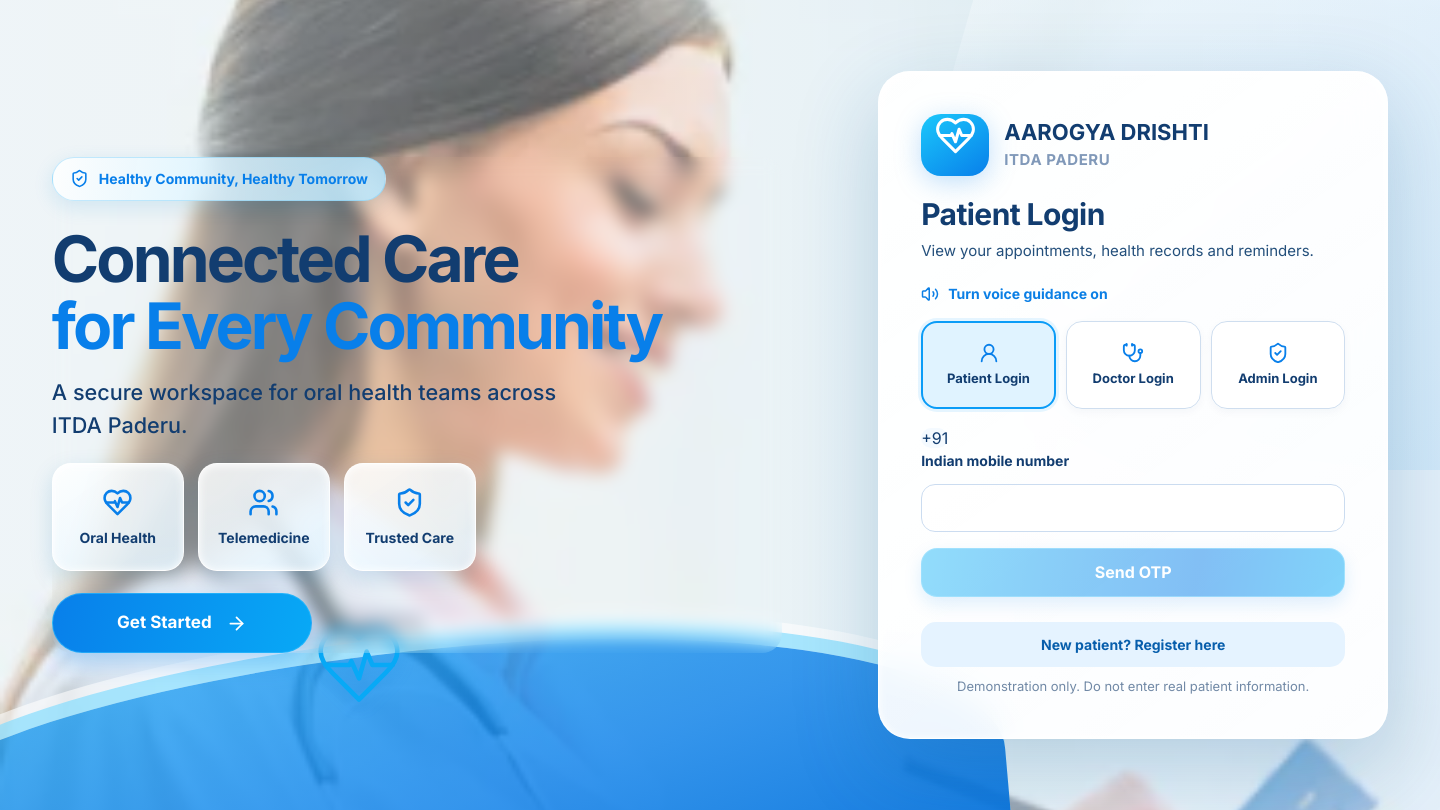
Test: role-based login selection › tells patients with deactivated accounts to request administrator reactivation
Type "9876543210" into the field labelled "Indian mobile number" at (1133, 508), box [921,484,1345,532]
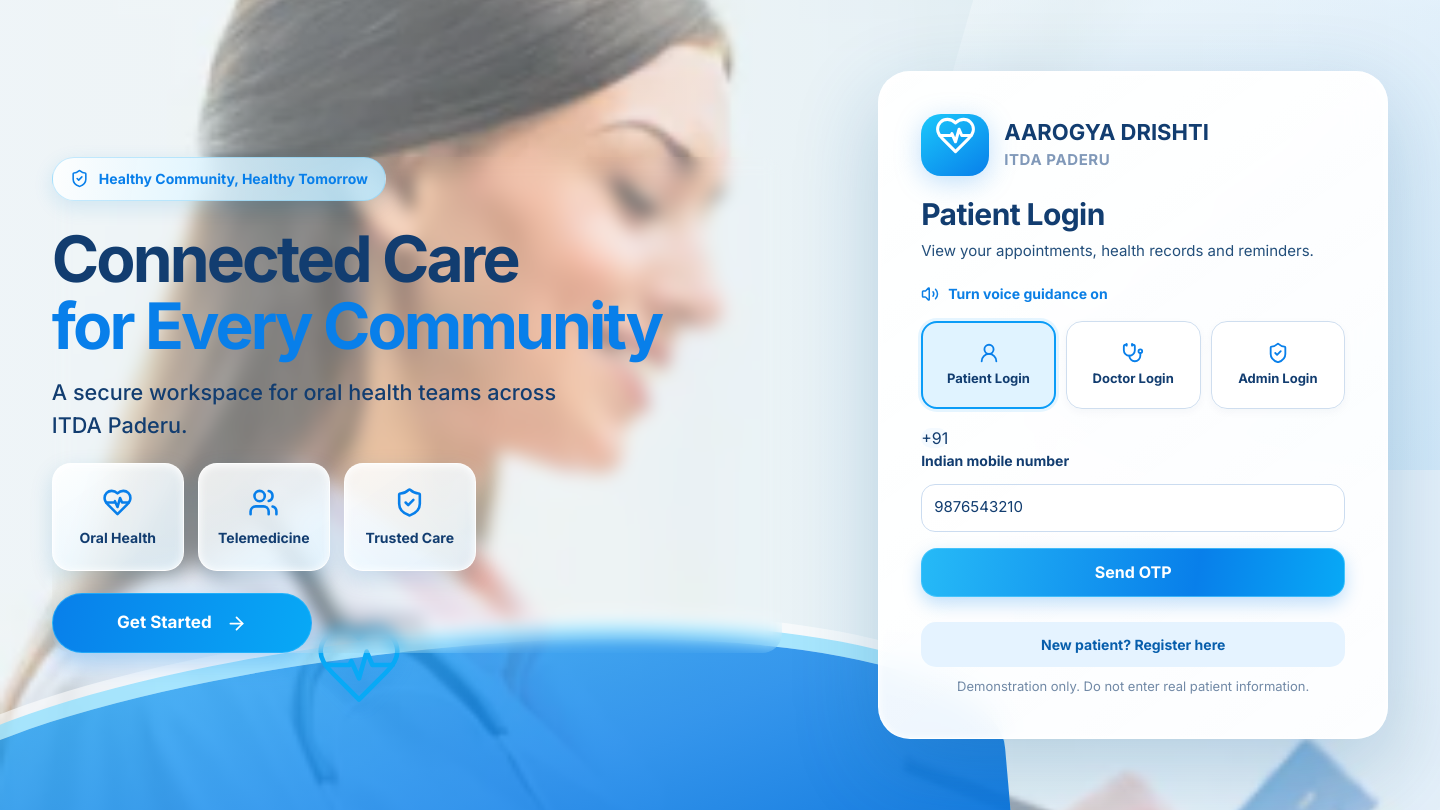
Click the button "Send OTP" at (1133, 572), box [921,548,1345,596]
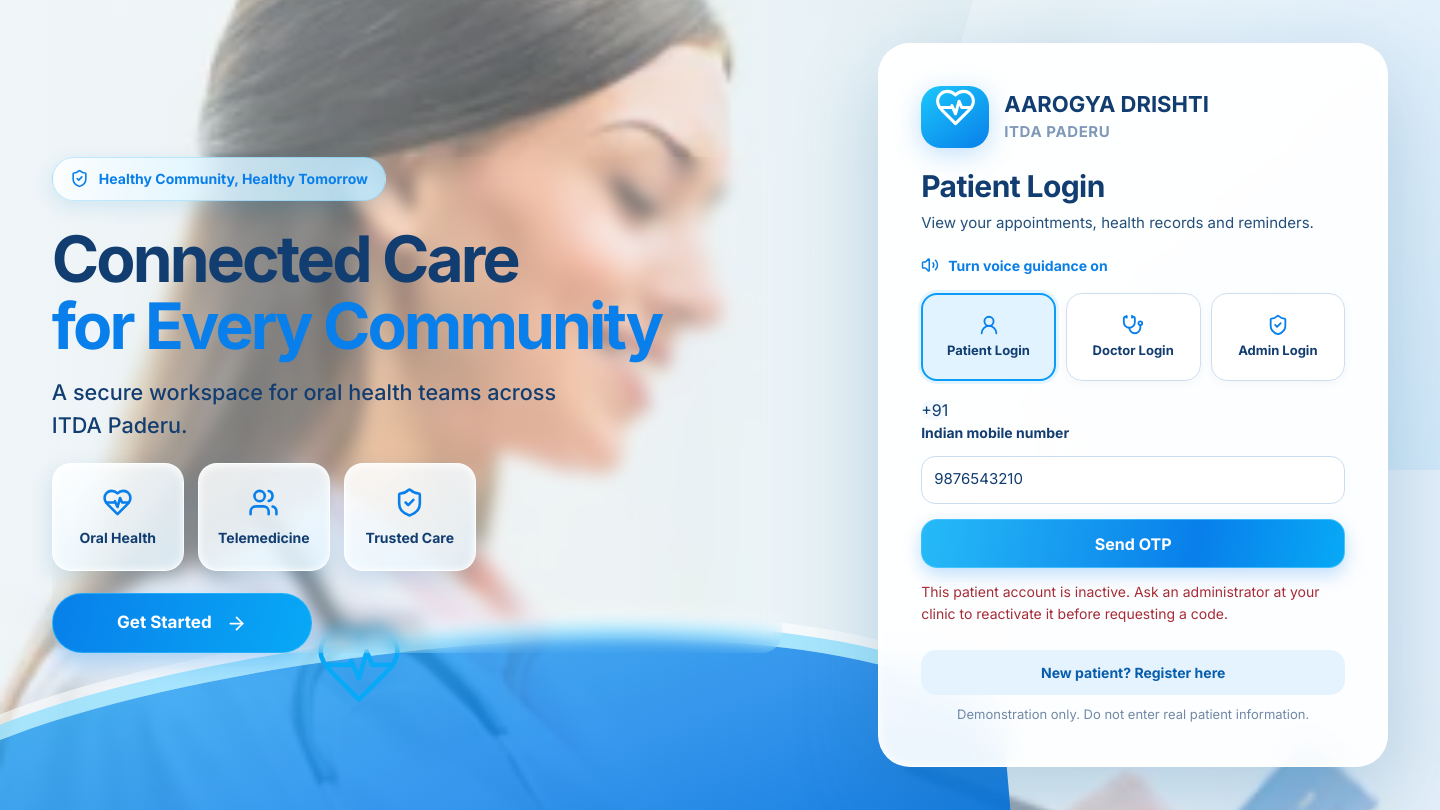
Check: the message shows "This patient account is inactive. Ask an administrator at your clinic to reactivate it before requesting a code.", box [921,583,1320,622]
